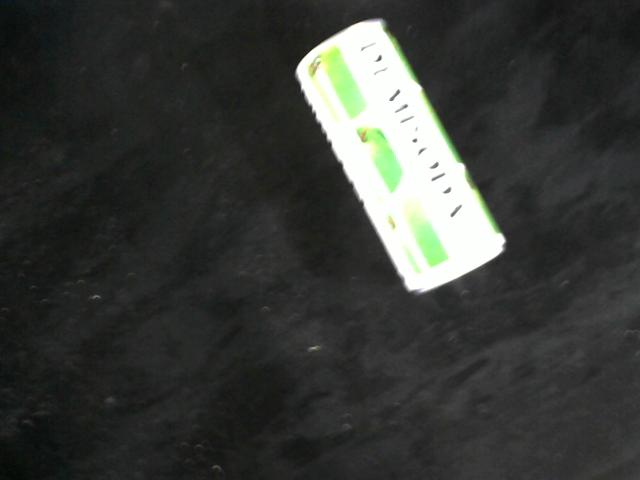can: (292, 18, 510, 296)
